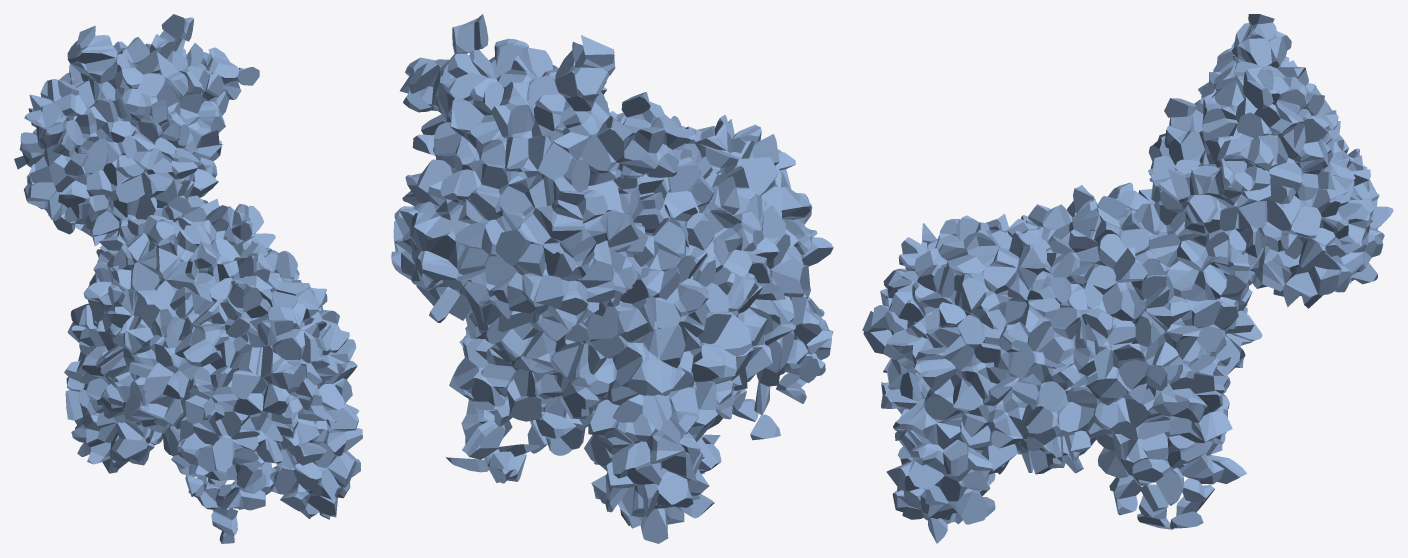
File: cow_1pct_voromesh.glb
The picture shows the model from 3 angles, left to right: view 1: azimuth 30°, elevation 25°; view 2: azimuth 150°, elevation 25°; view 3: azimuth 270°, elevation 25°; orthographic projection. The views are drawn at different scales.
Parts seen in each view (by area): view 1: cow_noise_1pct_voromesh.obj; view 2: cow_noise_1pct_voromesh.obj; view 3: cow_noise_1pct_voromesh.obj.
Boxes of the visible parts, x1,y1,x2,y2 form: cow_noise_1pct_voromesh.obj: [14, 14, 362, 543]; cow_noise_1pct_voromesh.obj: [391, 14, 833, 543]; cow_noise_1pct_voromesh.obj: [862, 14, 1393, 543].
Size of the model in its own units: 0.6062 by 1.05 by 1.06.
